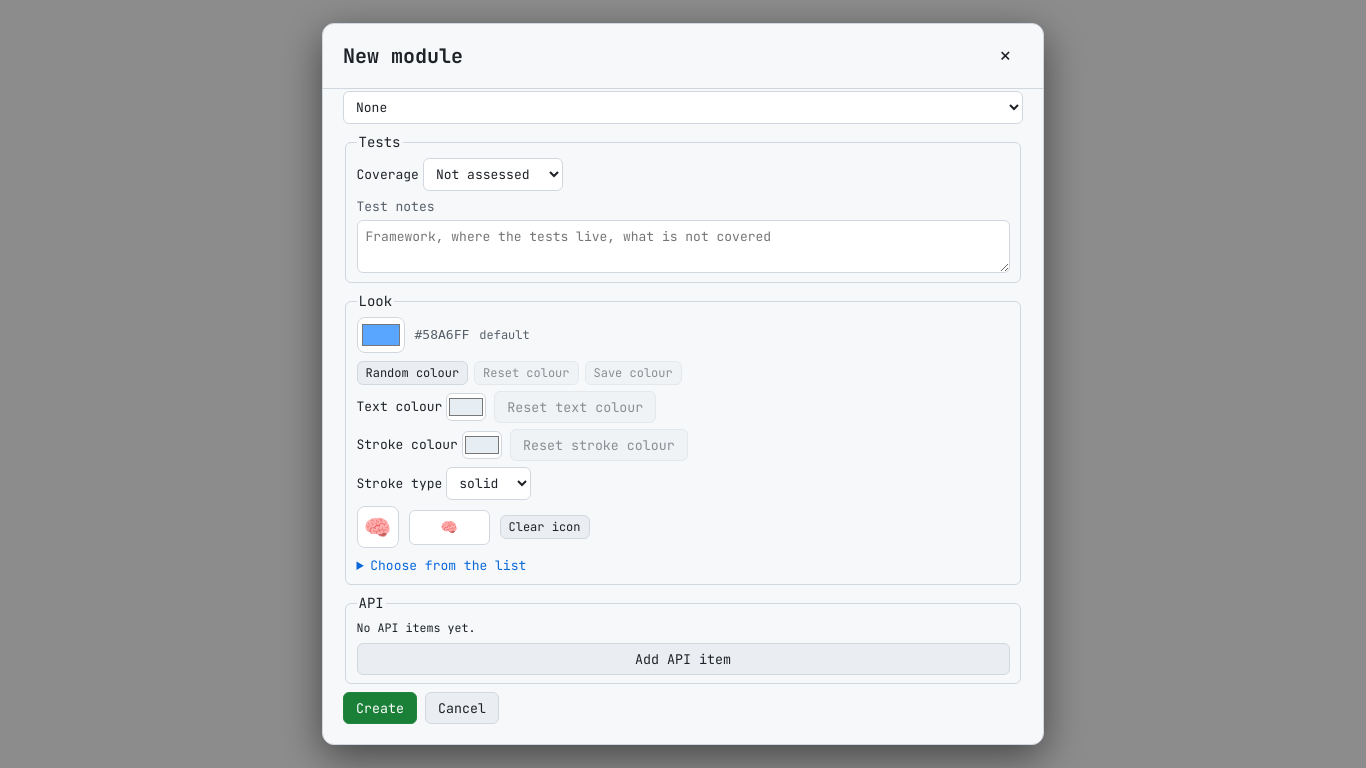
ModuleDialog › shows inline API validation error
(page scrolled)
Click the button "Create".
click(380, 708)  # box [343, 692, 417, 724]
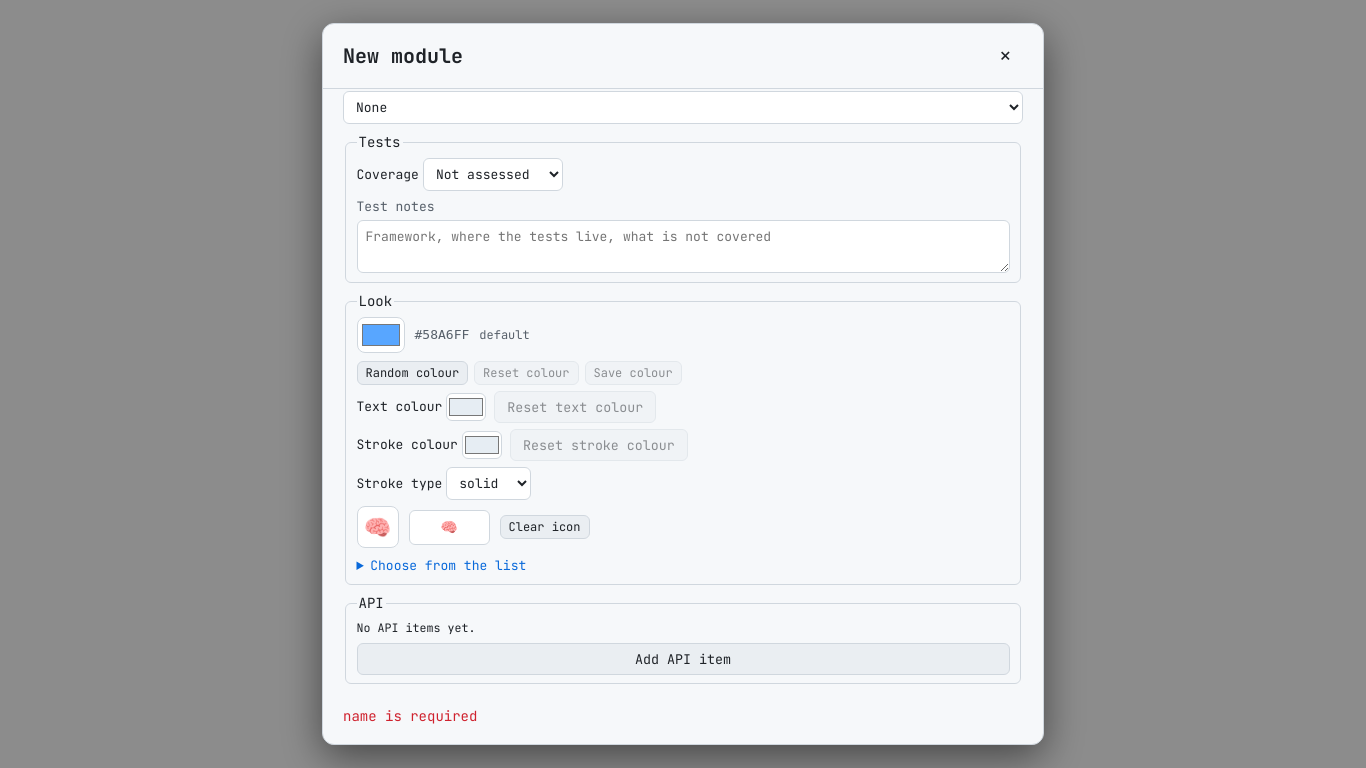
Check: the message reads "name is required", box [343, 707, 477, 725]
